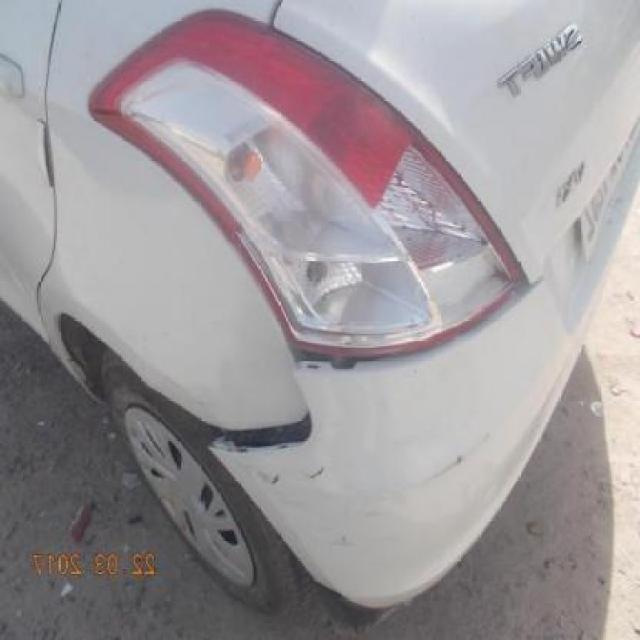damage: (216, 407, 314, 453), (286, 346, 392, 374)
